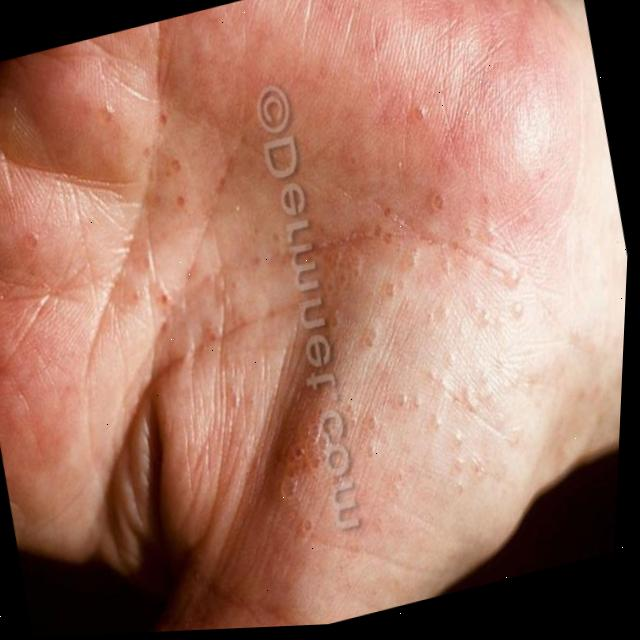Eczema: (98, 45, 544, 535)
